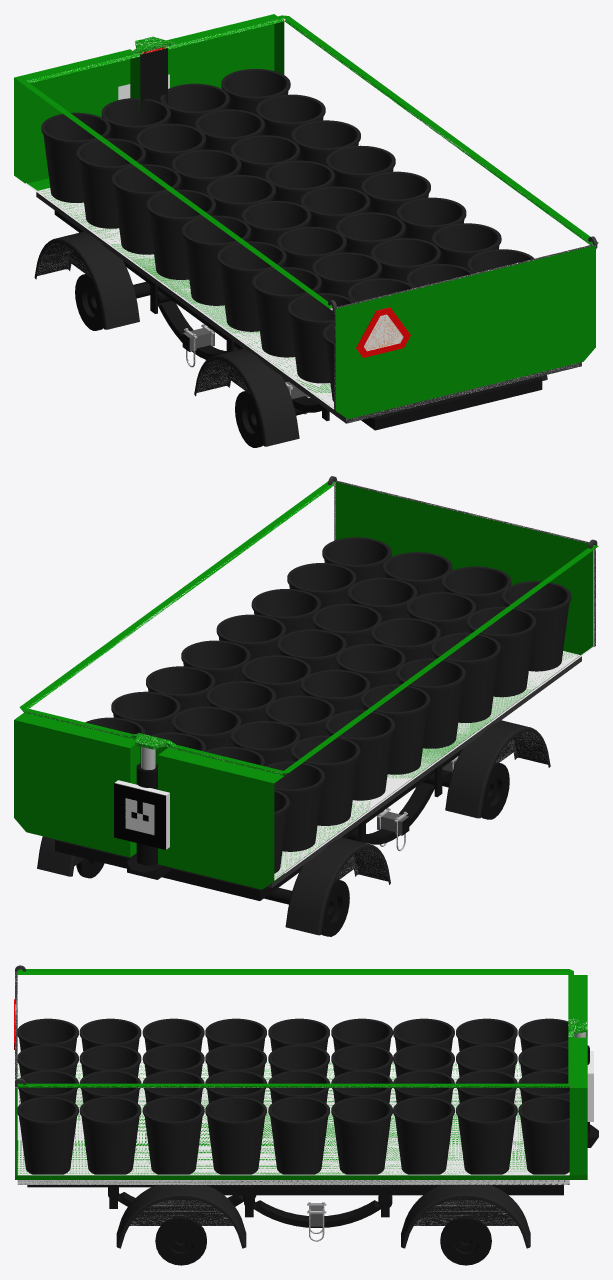
File: trailer_body1.dae
3 views of the same model, one above another, from view 1: azimuth 30°, elevation 25°; view 2: azimuth 150°, elevation 25°; view 3: azimuth 270°, elevation 25° (orthographic). The views are drawn at different scales.
Parts seen in each view (by area): view 1: group_6 (×7), group_19 (×8), group_20 (×8), group_18 (×8), group_17 (×8), Fender (×4), group_11, Spring, Axle (×2); view 2: group_6 (×5), group_19 (×9), group_20 (×8), group_18 (×8), group_17 (×7), Fender (×5), image_0, group_11, Spring, Axle (×2); view 3: group_20 (×9), group_6 (×4), group_19 (×9), group_18 (×9), group_17 (×9), Fender (×4), Spring (×2), Axle (×4), group_11, group_7.
Boxes of the visible parts, bbox=[...] form: group_6 (×7): bbox=[14, 14, 598, 423]; group_19 (×8): bbox=[41, 112, 354, 383]; group_20 (×8): bbox=[221, 69, 534, 273]; group_18 (×8): bbox=[101, 98, 413, 302]; group_17 (×8): bbox=[160, 83, 473, 287]; Fender (×4): bbox=[34, 231, 299, 446]; group_11: bbox=[361, 377, 542, 430]; Spring: bbox=[123, 260, 242, 359]; Axle (×2): bbox=[75, 273, 263, 447]; group_6 (×5): bbox=[14, 477, 598, 889]; group_19 (×9): bbox=[265, 581, 571, 873]; group_20 (×8): bbox=[85, 537, 391, 735]; group_18 (×8): bbox=[205, 566, 511, 766]; group_17 (×7): bbox=[172, 552, 452, 750]; Fender (×5): bbox=[37, 720, 550, 935]; image_0: bbox=[114, 783, 165, 849]; group_11: bbox=[55, 839, 302, 900]; Spring: bbox=[342, 749, 461, 844]; Axle (×2): bbox=[321, 762, 509, 936]; group_20 (×9): bbox=[17, 1096, 569, 1174]; group_6 (×4): bbox=[15, 969, 587, 1184]; group_19 (×9): bbox=[17, 1018, 568, 1051]; group_18 (×9): bbox=[17, 1044, 568, 1076]; group_17 (×9): bbox=[18, 1070, 569, 1103]; Fender (×4): bbox=[116, 1185, 530, 1248]; Spring (×2): bbox=[61, 1185, 439, 1227]; Axle (×4): bbox=[155, 1216, 491, 1265]; group_11: bbox=[491, 1185, 563, 1195]; group_7: bbox=[587, 1051, 593, 1121].
Size of the model in its own units: 53.66 by 108 by 38.68.
